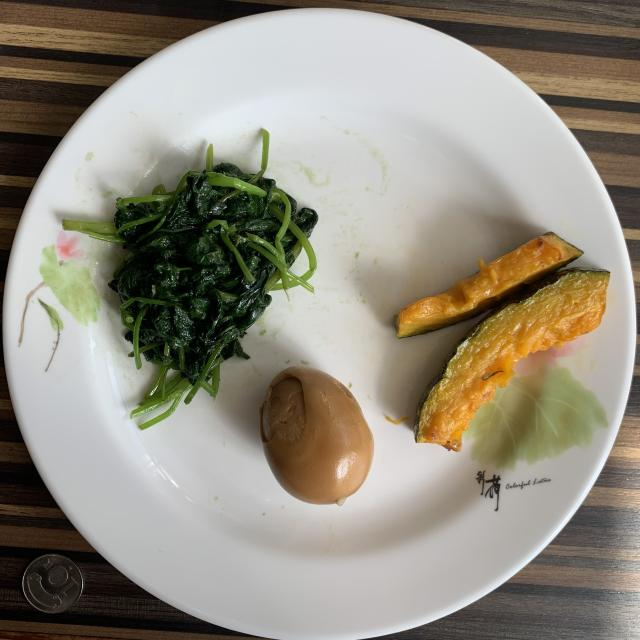coin: (22, 554, 84, 614)
pumpkin: (395, 232, 610, 451)
soy egg: (260, 366, 374, 505)
sweet potato leaves: (62, 131, 318, 429)
